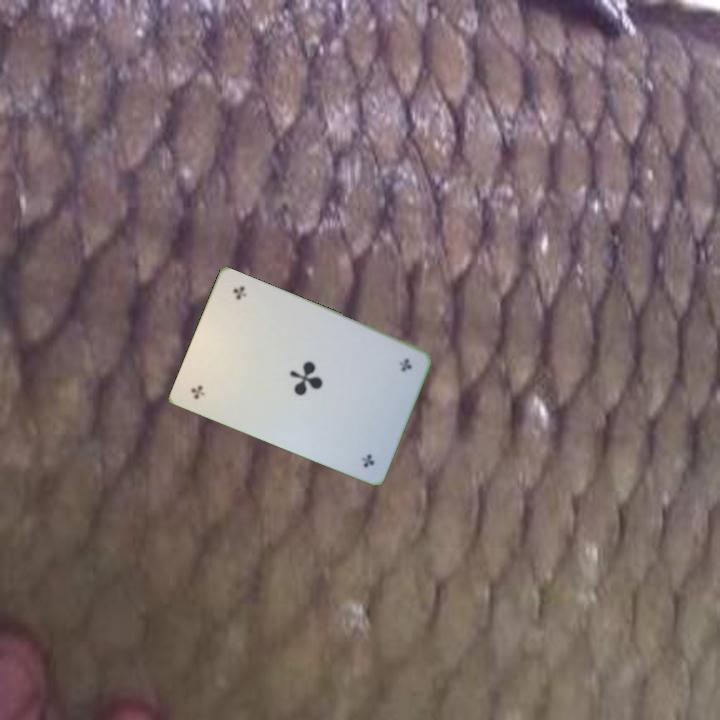c_a.png: (345, 336, 422, 418), (180, 335, 257, 417)
